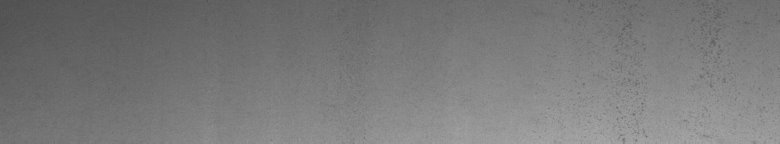ib: (617, 12, 726, 123)
